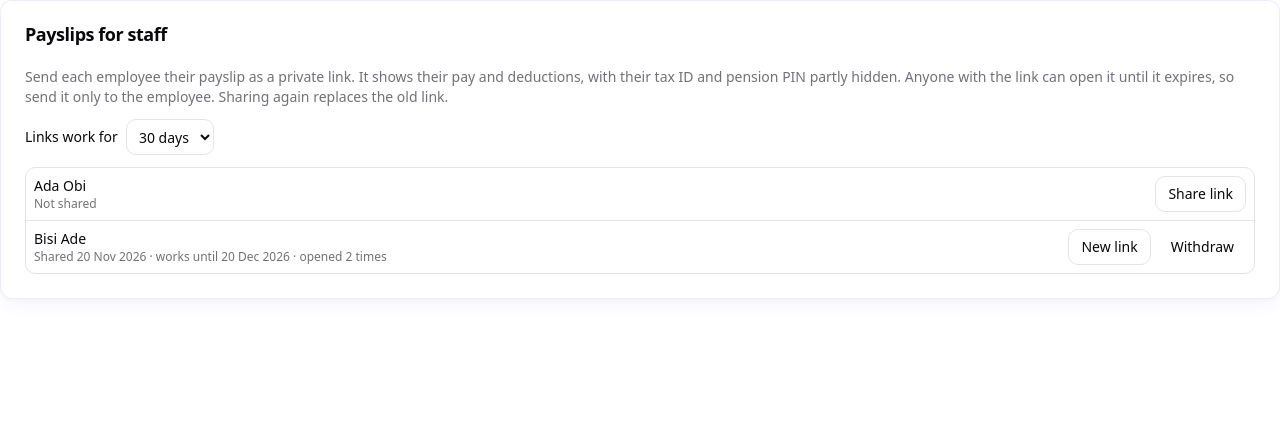
Test case: a link is made for the chosen days, shown once, and can be withdrawn
Expected: the text "Not shared" is shown, [34,196,97,212]
Expected: the text "opened 2 times" is shown, [34,248,387,265]
Select "7 days" in the dropdown labelled "Links work for" at (170, 137), box [126,119,214,155]
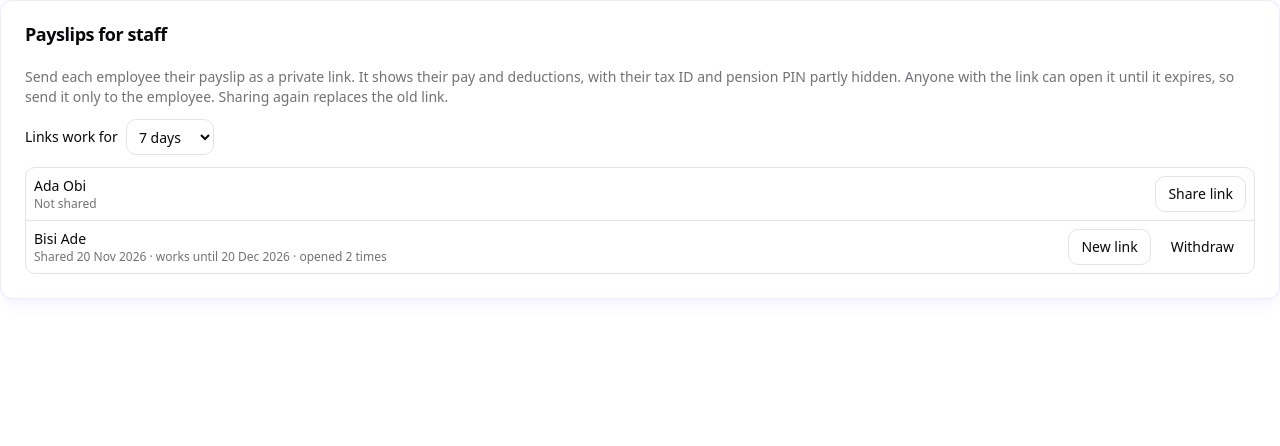
Click the button "Share link".
click(1201, 194)  # box [1155,176,1246,212]
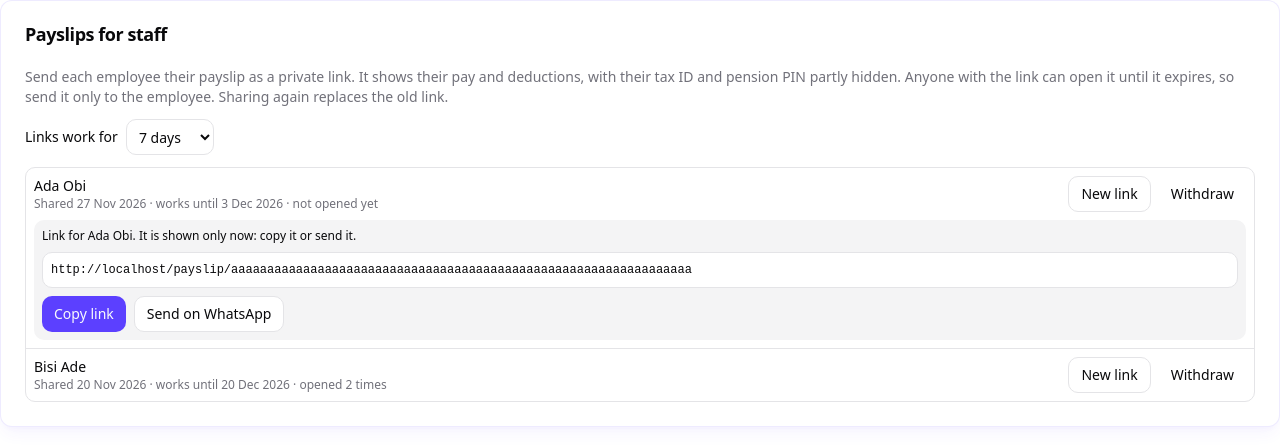
Click the 1st button "Withdraw".
click(1202, 194)  # box [1159,176,1246,212]
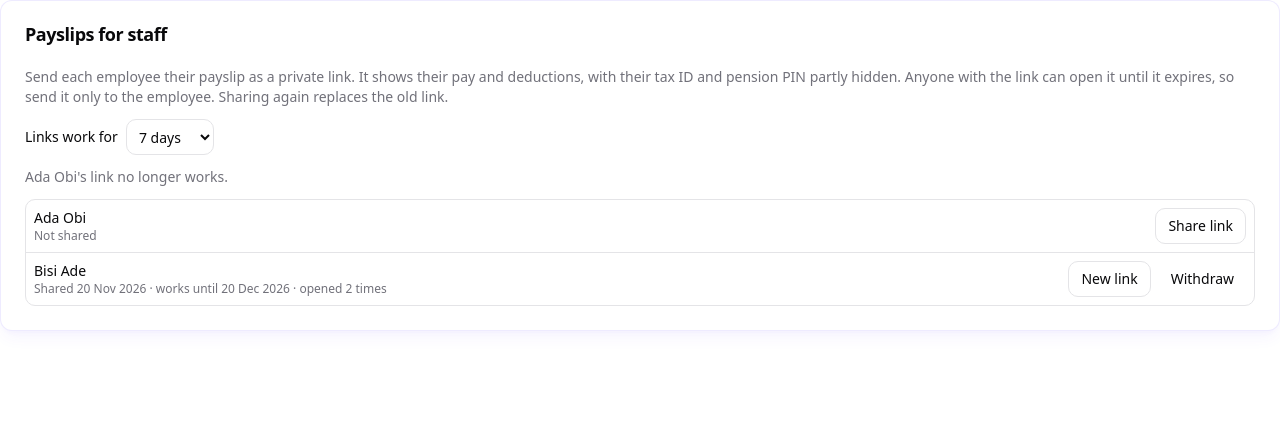
Now the message reads "Ada Obi's link no longer works.", box [25,167,228,186]
Now the label labelled "Link for Ada Obi" is gone
